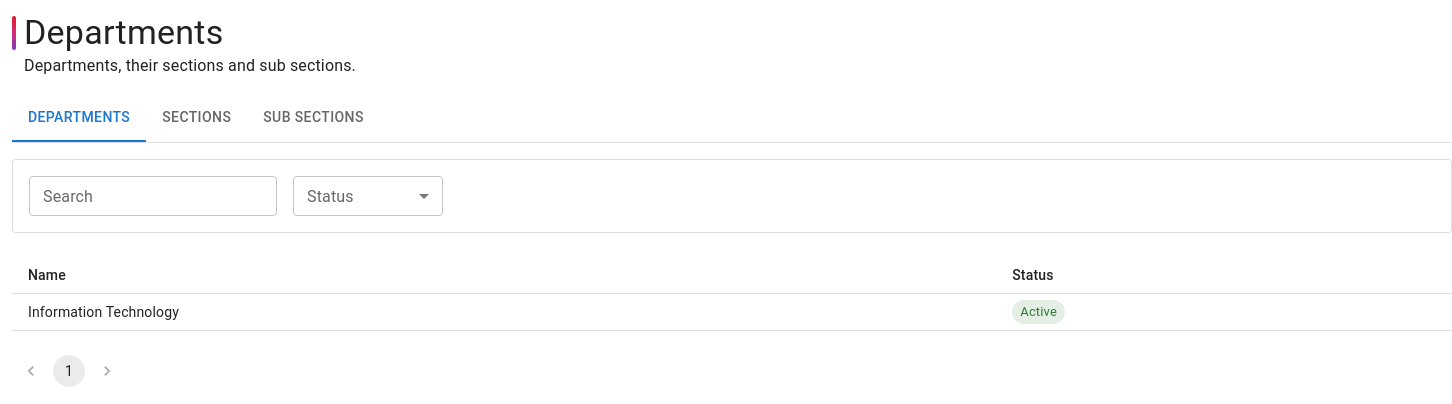
Test case: DepartmentsPage › shows departments, sections and sub sections on separate tabs
The width and height of the screenshot is (1452, 404).
Check: the heading "Departments" is shown, box [24,12,224,52]
Check: the text "Information Technology" is shown, box [12,294,996,331]
What coordinates should you click on to do the following:
click the tab "Sections"
I would click on:
 (197, 118)
Its box is [146,94,247,142].
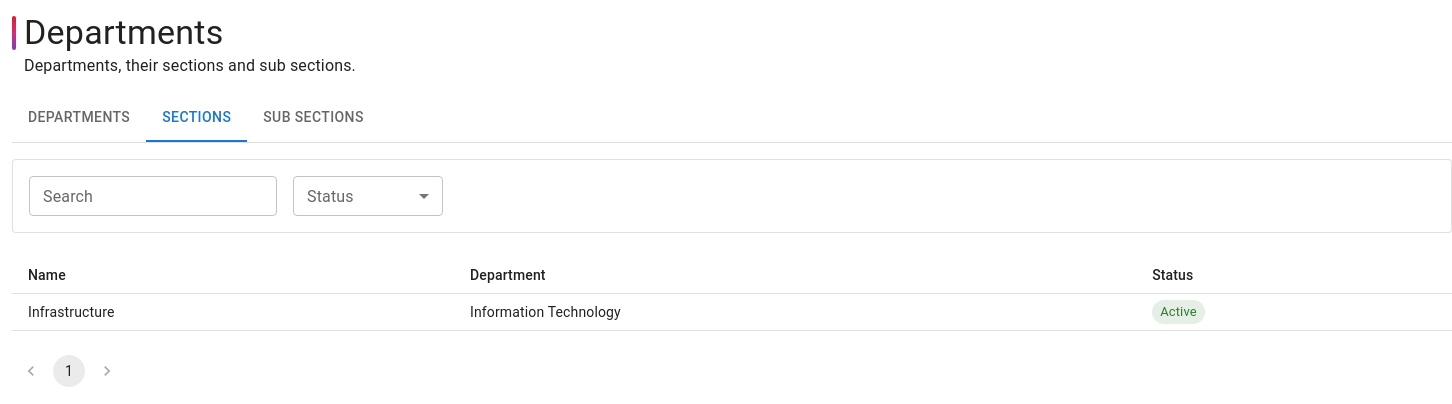
Check: the text "Infrastructure" is shown, box [12,294,454,331]
What coordinates should you click on to do the following:
click the tab "Sub Sections"
I would click on:
 (314, 118)
Its box is [247,94,380,142].
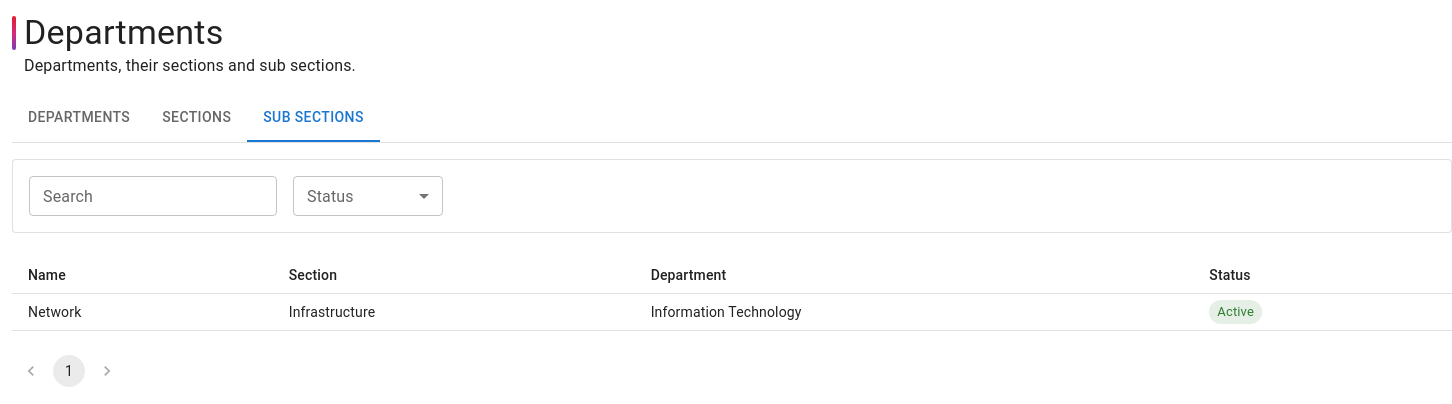
Check: the text "Network" is shown, box [12,294,273,331]
